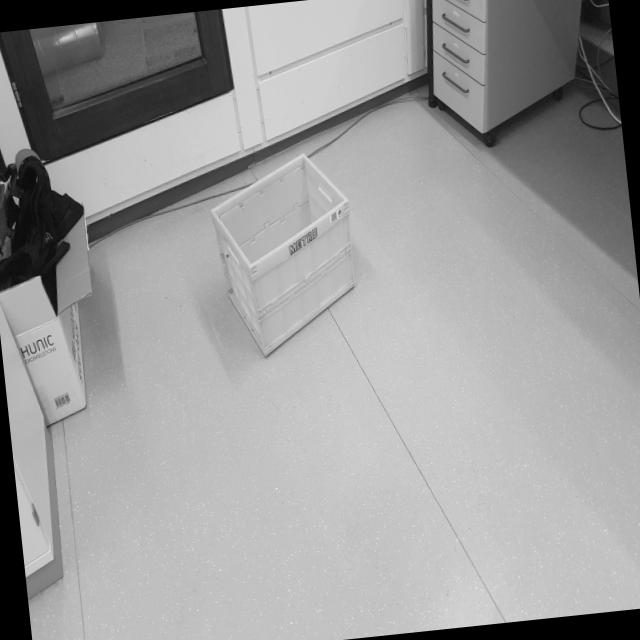box: (203, 146, 367, 373)
